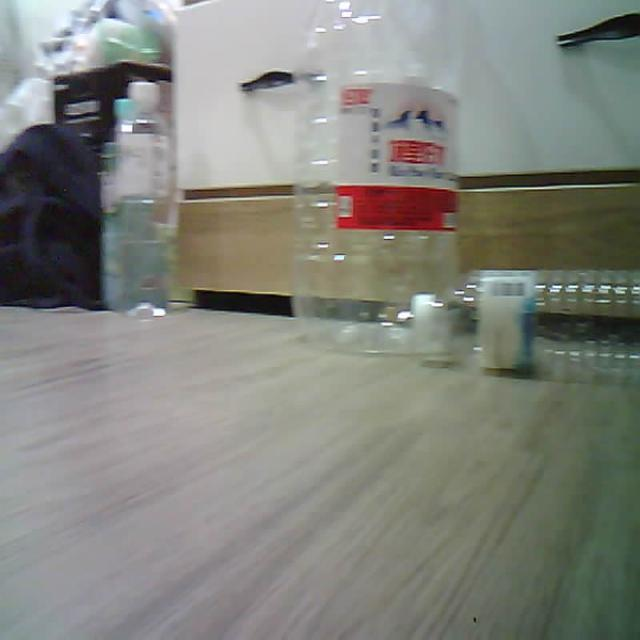bottle: (294, 0, 460, 358), (114, 81, 175, 317)
